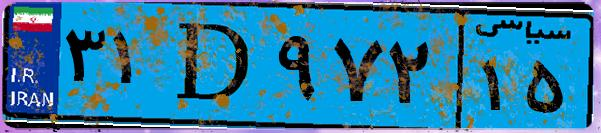1: (475, 38, 525, 113), (110, 28, 158, 98)
2: (385, 28, 445, 110)
3: (57, 26, 110, 100)
5: (525, 38, 570, 115)
7: (330, 28, 385, 110)
9: (270, 28, 330, 110)
D: (158, 12, 270, 120)
